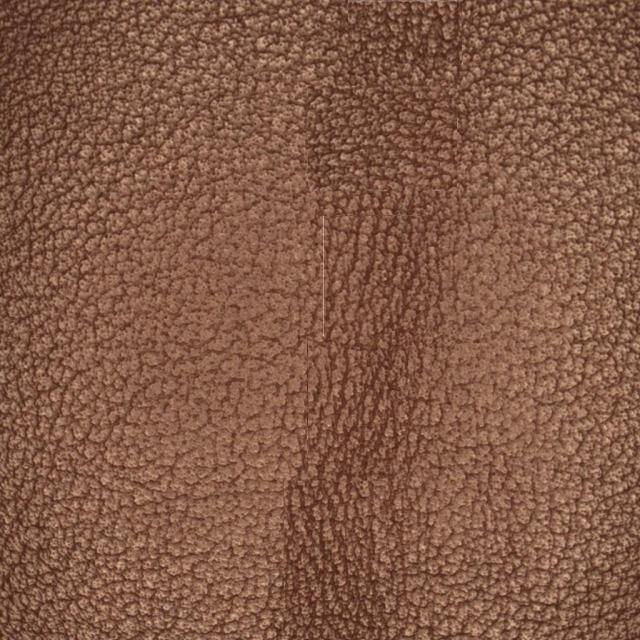Healed Injury: (282, 356, 506, 604), (294, 42, 510, 266)
